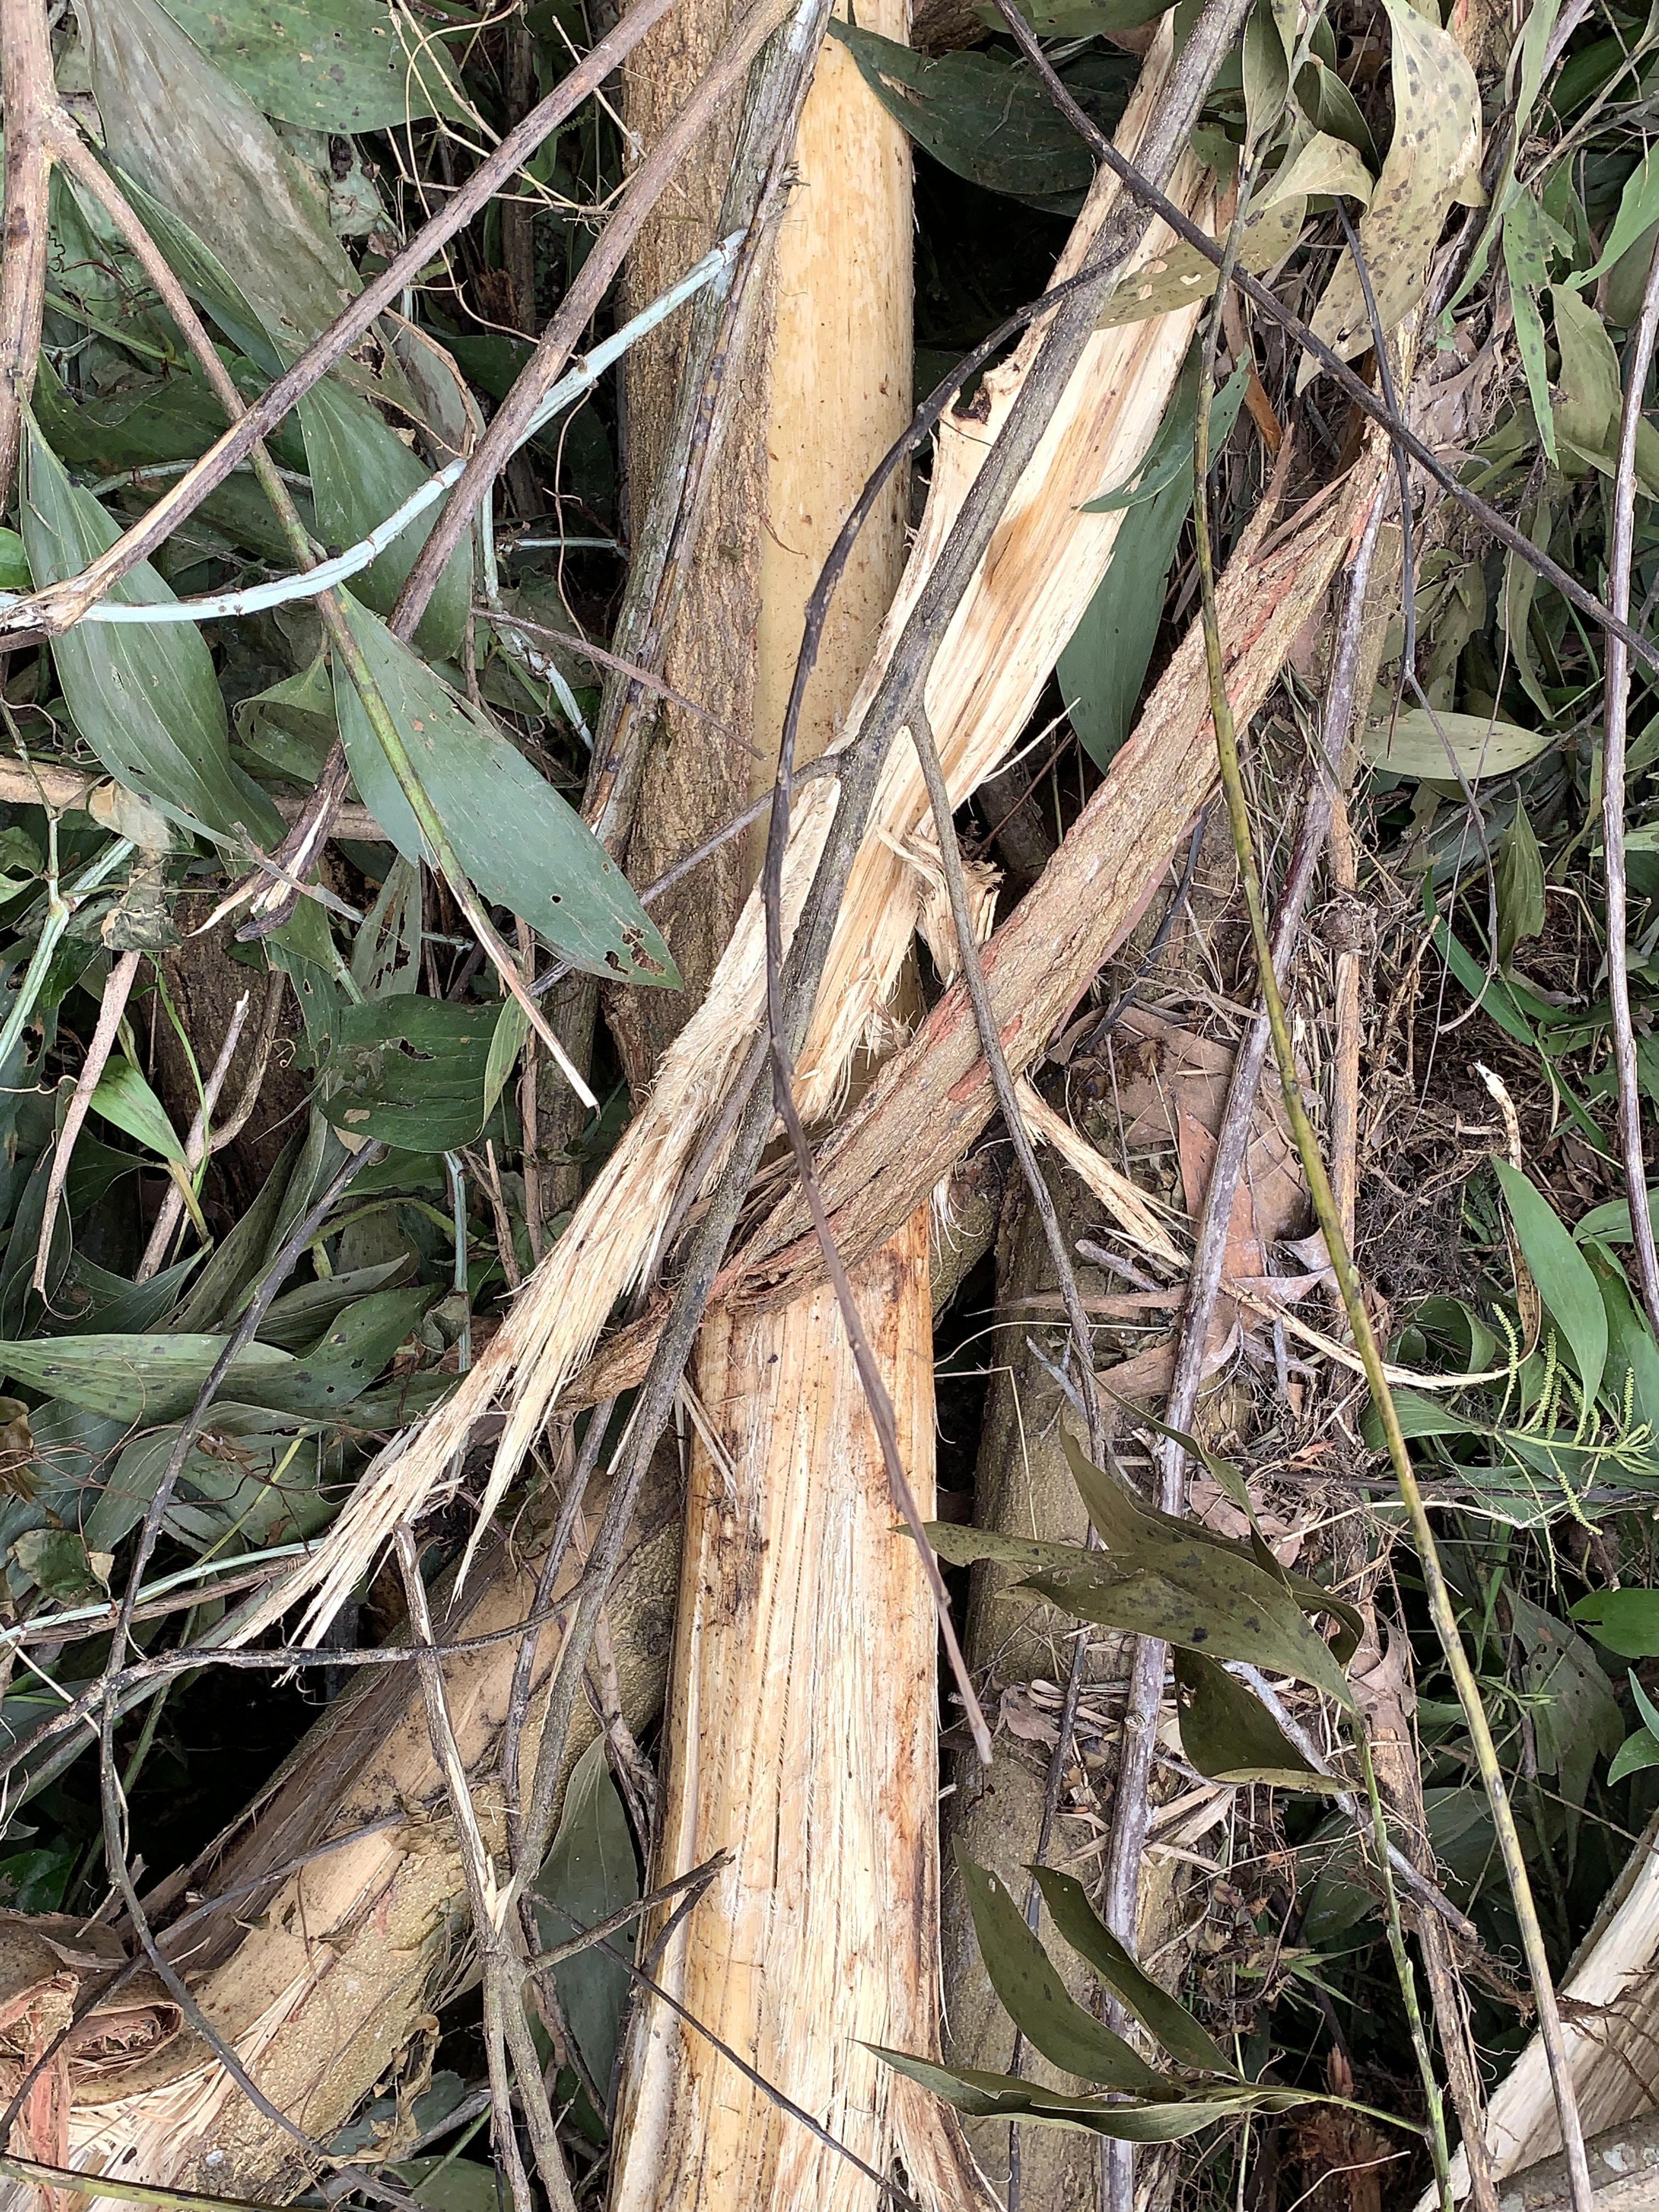Mammals Attack: (617, 0, 939, 2212)
